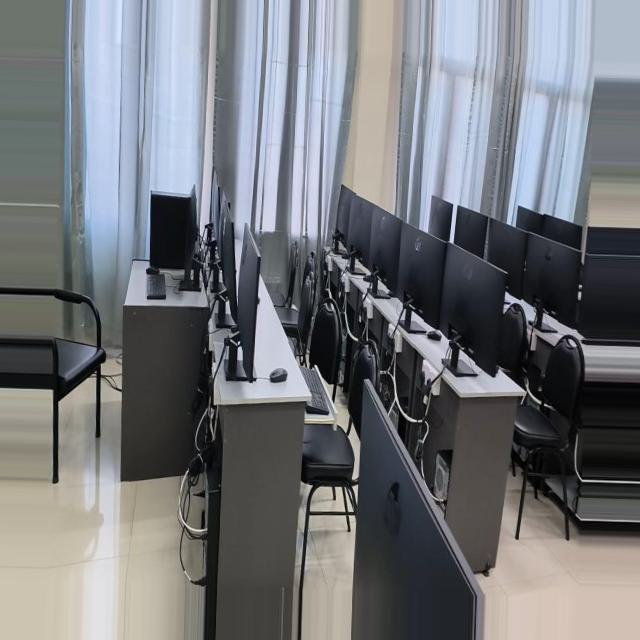Chair: (248, 350, 336, 639), (0, 328, 85, 571), (574, 293, 640, 522), (325, 240, 374, 363), (293, 292, 332, 404), (348, 220, 393, 306), (70, 293, 106, 393)
Cpu: (480, 174, 526, 265), (156, 468, 180, 530)
Keyboard: (306, 376, 341, 431), (505, 267, 529, 301)
Monitor: (113, 391, 270, 639), (99, 225, 177, 380), (10, 210, 78, 319), (172, 203, 230, 326), (393, 209, 419, 396), (74, 194, 122, 286), (10, 178, 89, 228), (225, 187, 264, 284), (256, 171, 291, 257), (466, 166, 490, 290), (418, 202, 439, 335), (122, 180, 163, 241), (426, 170, 444, 262), (165, 169, 195, 222), (284, 160, 304, 223), (57, 178, 89, 212), (443, 146, 454, 236), (443, 269, 450, 289), (198, 587, 205, 598)
Mouse: (357, 377, 378, 395), (174, 328, 192, 340)
